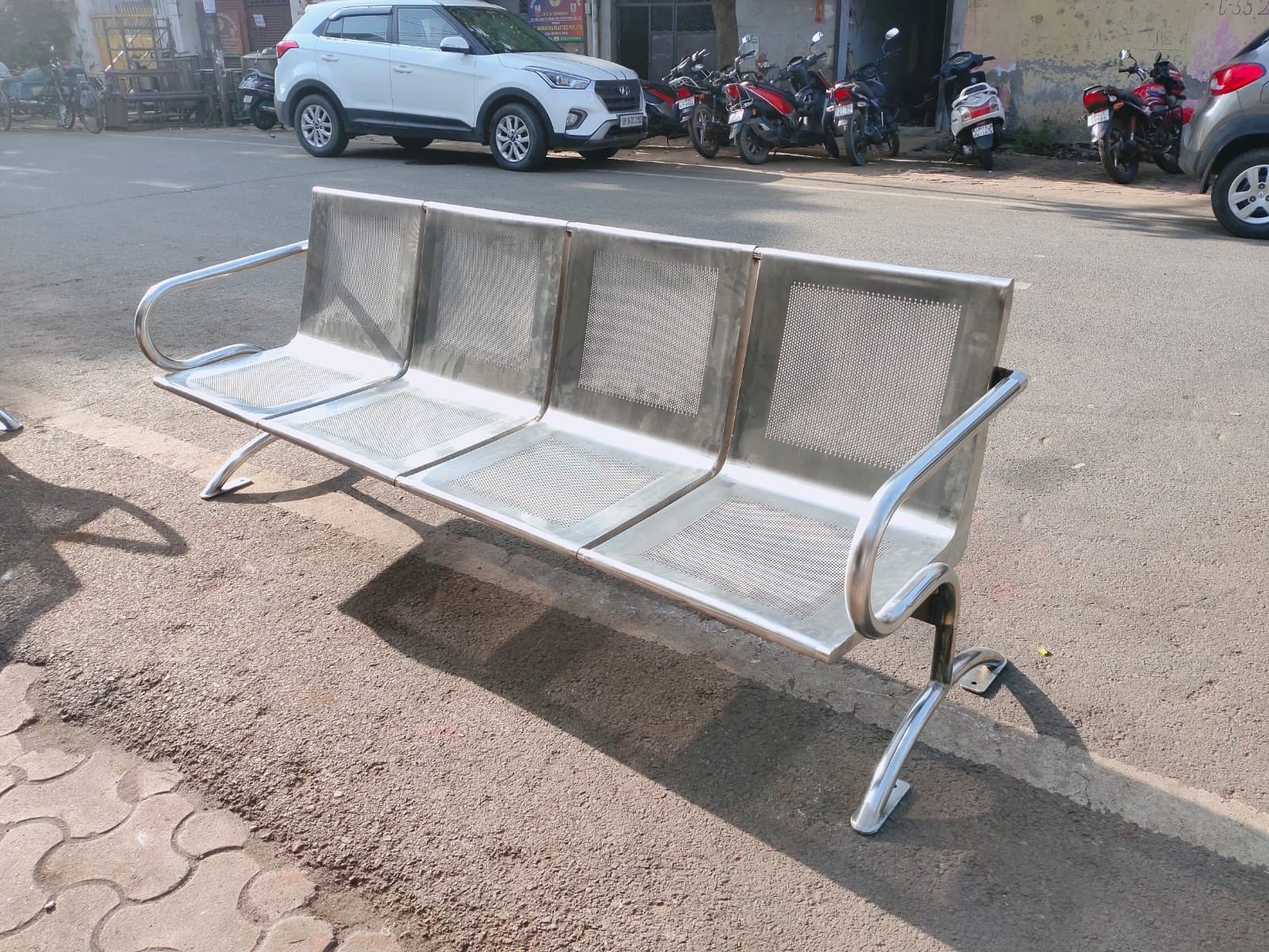Car: (271, 6, 648, 176)
Chair: (119, 179, 1049, 846)
Motorcycle: (1080, 38, 1194, 193), (919, 49, 1031, 171), (648, 45, 733, 182), (724, 52, 818, 173), (815, 48, 907, 168)
